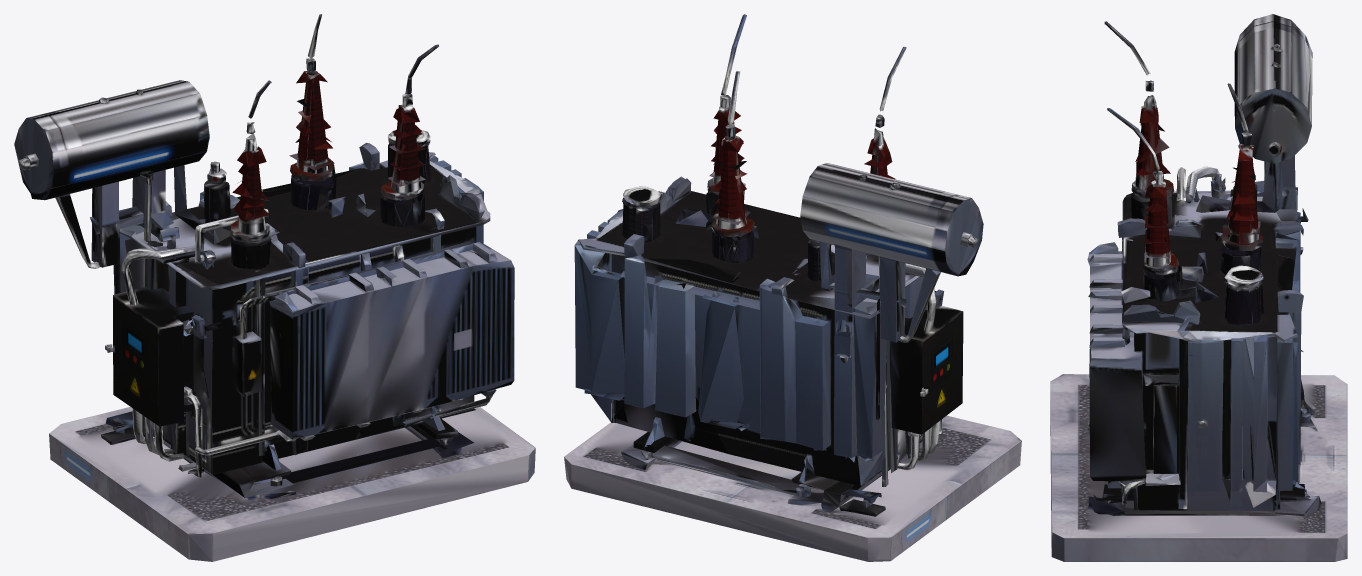
Rendered from transformer.glb.
3 renders of one model, left to right at view 1: azimuth 30°, elevation 25°; view 2: azimuth 150°, elevation 25°; view 3: azimuth 270°, elevation 25°, orthographic. The views are drawn at different scales.
Visible parts, largest first — view 1: world; view 2: world; view 3: world.
Boxes of the visible parts, <box> form: world: <box>14,14,535,561</box>; world: <box>564,14,1021,561</box>; world: <box>1050,14,1347,561</box>.
Bounding box in the file's own units: 1.39 × 1.39 × 0.875.
1 material, 1 textured.
